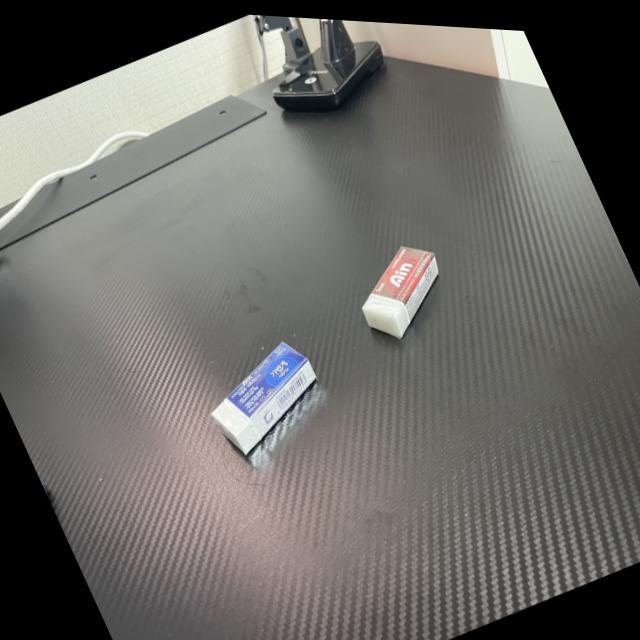blue: (188, 319, 343, 472)
red: (335, 217, 470, 358)
